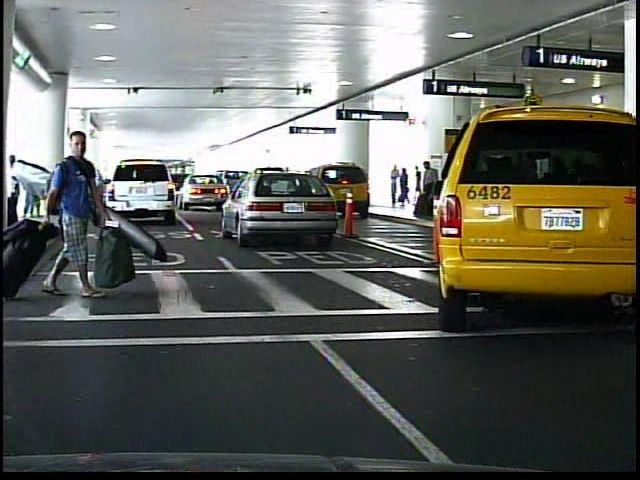person: (48, 121, 111, 313), (416, 160, 438, 217), (387, 165, 399, 208), (399, 166, 409, 208)
